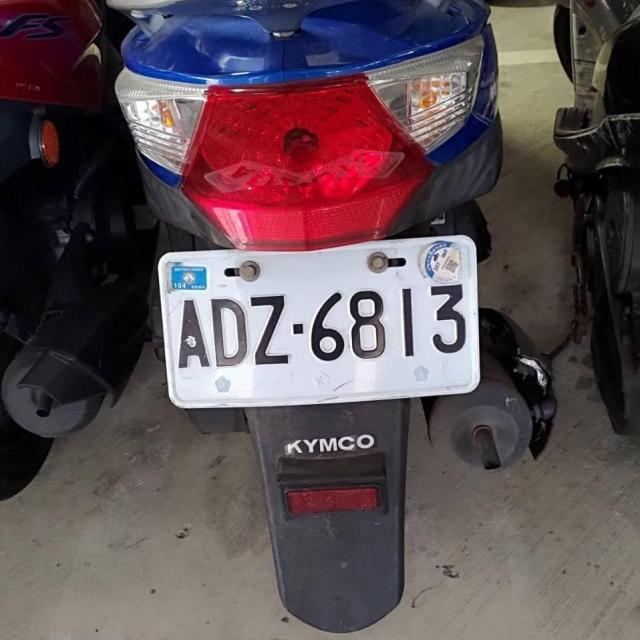W: (150, 231, 487, 410)
